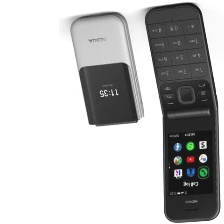phone: (142, 0, 221, 224), (59, 5, 145, 131)
